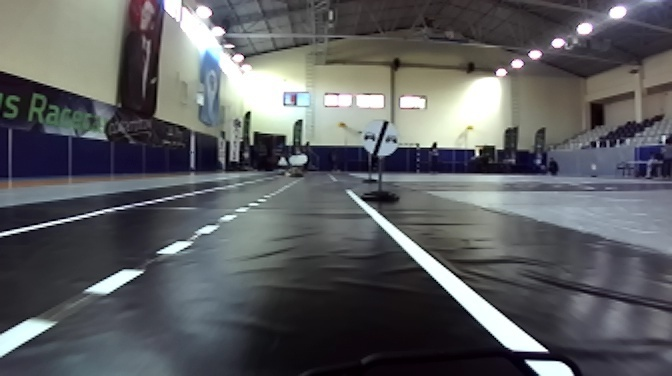sollama_serbest: (361, 120, 399, 157)
